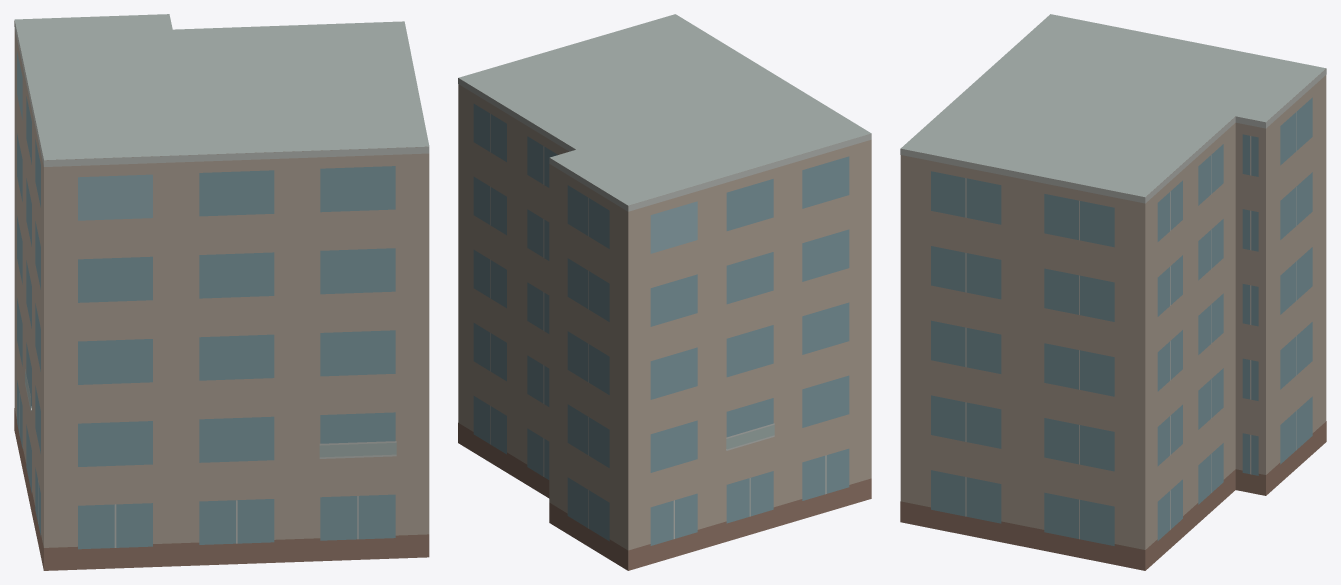
Rendered from survey-upis-33005383.glb.
3 views of the same model, side by side, from view 1: azimuth 30°, elevation 25°; view 2: azimuth 150°, elevation 25°; view 3: azimuth 270°, elevation 25° (orthographic). The views are drawn at different scales.
Visible parts, largest first — view 1: survey-upis-33005383.tmp; view 2: survey-upis-33005383.tmp; view 3: survey-upis-33005383.tmp.
Boxes of the visible parts, x1,y1,x2,y2 form: survey-upis-33005383.tmp: [14, 14, 429, 570]; survey-upis-33005383.tmp: [458, 14, 871, 570]; survey-upis-33005383.tmp: [900, 14, 1326, 570].
Bounding box in the file's own units: 15.26 × 14.5 × 14.99.
